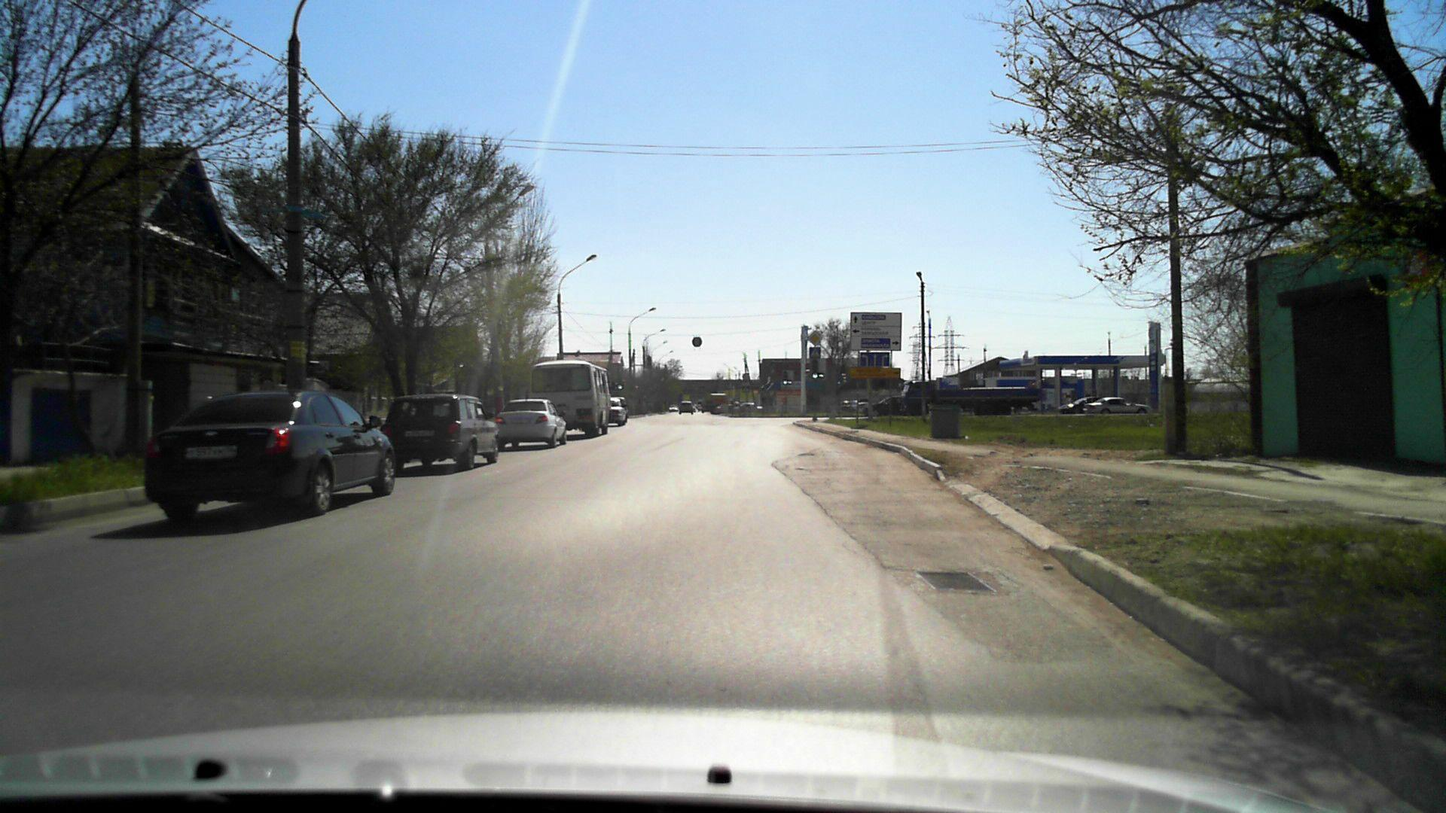road_sign: (858, 351, 890, 367)
